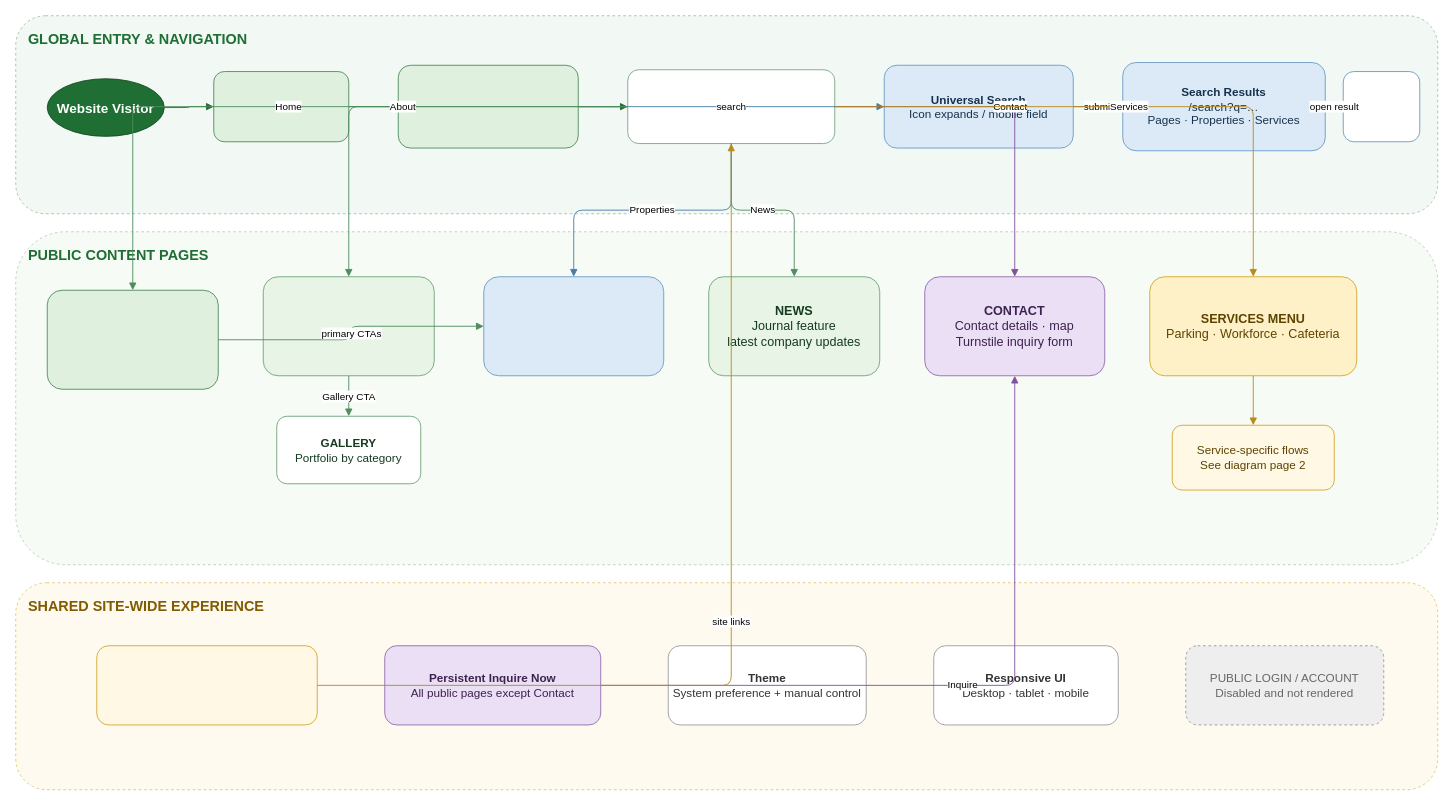
The diagram is 1454 pixels wide and 806 high, and some of its shapes have lost their labels. Here are the shapes that lost their labels. From the top down, the centre of each, then its label:
At point (281, 106): "Home /".
At point (487, 106): "Responsive Navbar Desktop + mobile hamburger".
At point (731, 106): "Home · About · Properties News · Contact · Services".
At point (1381, 106): "Selected result opens matching internal page".
At point (132, 339): "HOME Hero · property mosaic services · highlights · CTA".
At point (348, 326): "ABOUT Story · milestones · values CSR · Gallery CTA".
At point (573, 326): "PROPERTIES Search · filters · sorting 10 property cards".
At point (206, 685): "Footer Navigation Company · featured properties · services".
